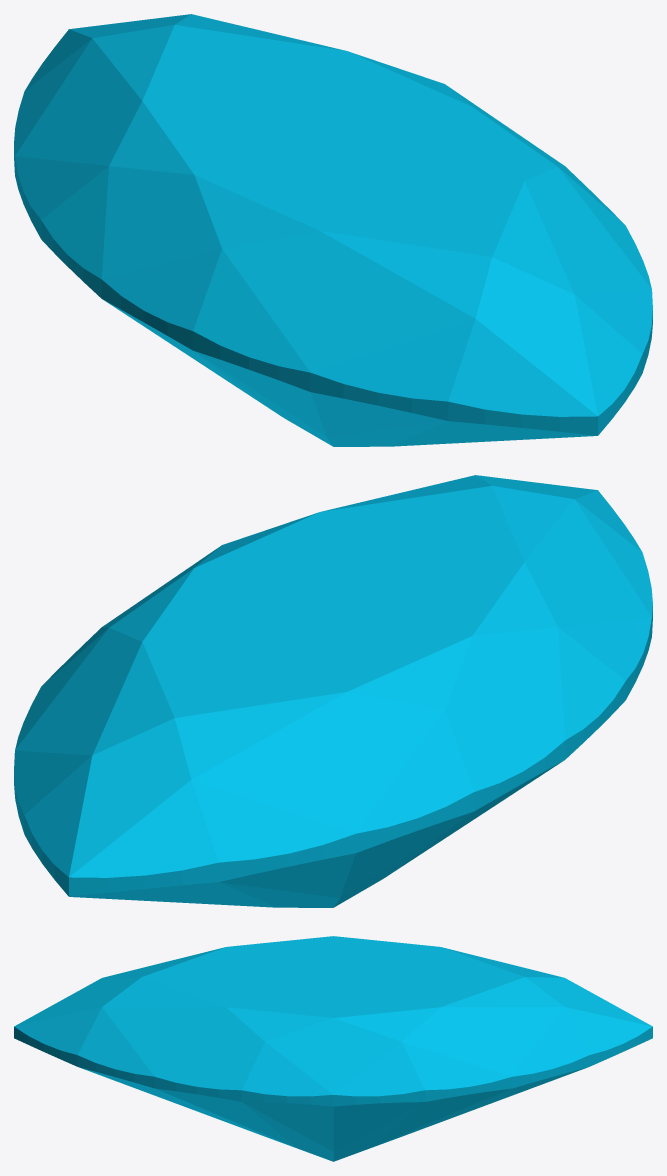
Rendered from Head_No Halo_Marquise_1.0ct_Diamond.glb.
3 renders of one model, top to bottom at view 1: azimuth 30°, elevation 25°; view 2: azimuth 150°, elevation 25°; view 3: azimuth 270°, elevation 25°, orthographic. The views are drawn at different scales.
Bounding box in the file's own units: 0.00505 × 0.00318 × 0.00997.
